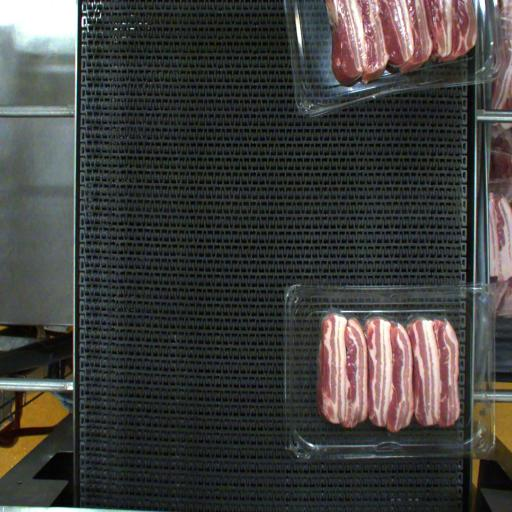unsealed: (318, 305, 474, 439)
